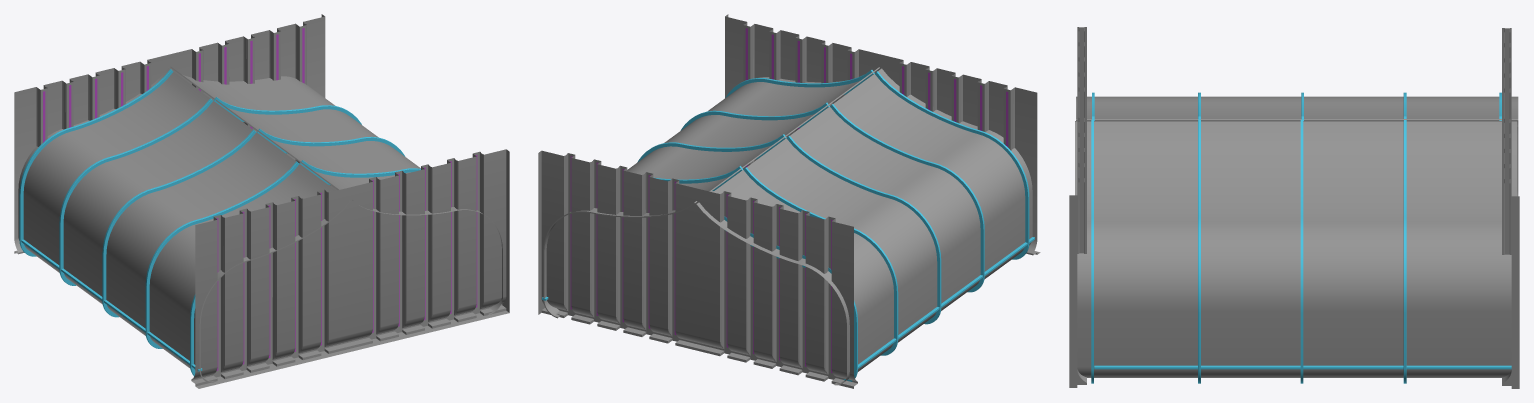
The model's file is Factory.FBX.
3 views of the same model, side by side, from view 1: azimuth 30°, elevation 25°; view 2: azimuth 150°, elevation 25°; view 3: azimuth 270°, elevation 25° (orthographic). The views are drawn at different scales.
Visible parts, largest first — view 1: Factory; view 2: Factory; view 3: Factory.
Part boxes in pixels (left/top/right/bottom): Factory: left=14, top=14, right=509, bottom=388; Factory: left=538, top=14, right=1040, bottom=388; Factory: left=1069, top=27, right=1519, bottom=388.
Size of the model in its own units: 5322 by 2696 by 5580.
